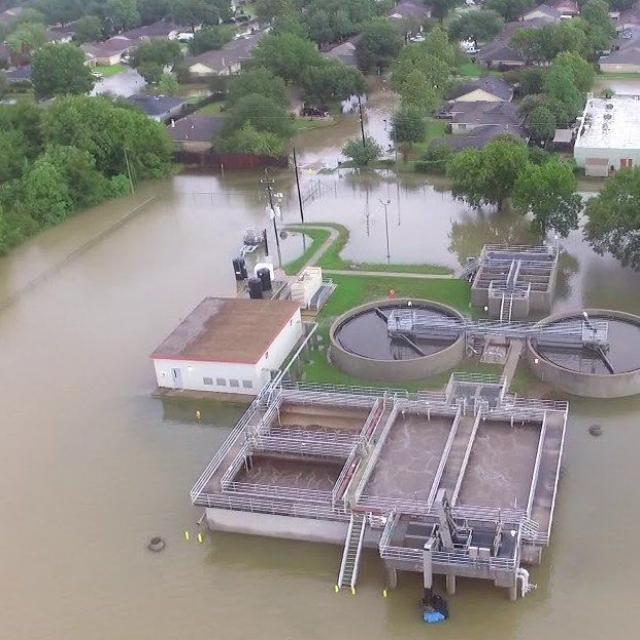flood: (0, 171, 640, 640), (297, 115, 530, 270), (556, 229, 640, 314), (367, 92, 396, 148), (273, 170, 300, 224), (602, 76, 640, 90)
house: (179, 382, 583, 599), (149, 294, 312, 401), (470, 237, 558, 322), (578, 83, 638, 176), (454, 85, 506, 117)
